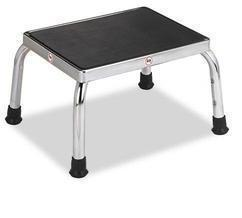stool: (1, 1, 235, 183)
